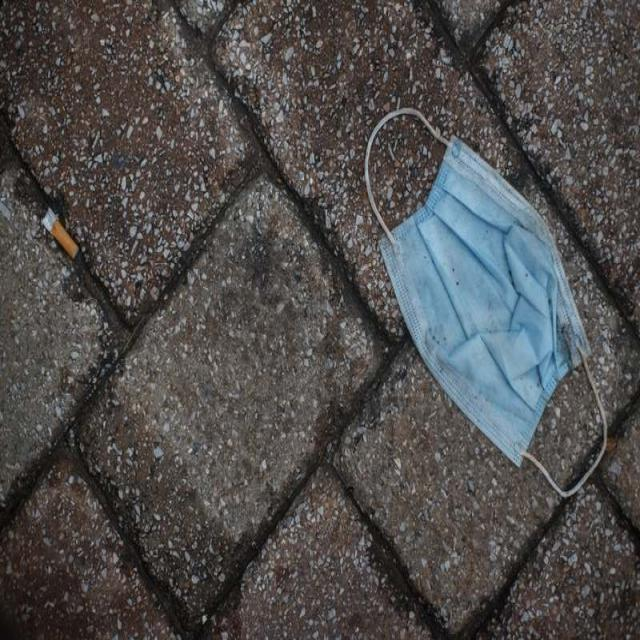face mask: (366, 101, 606, 495)
